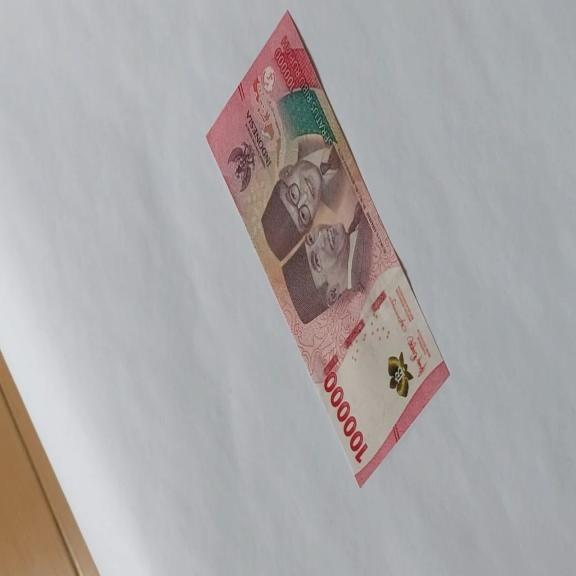Kertas: (206, 8, 450, 488), (323, 369, 369, 465)
